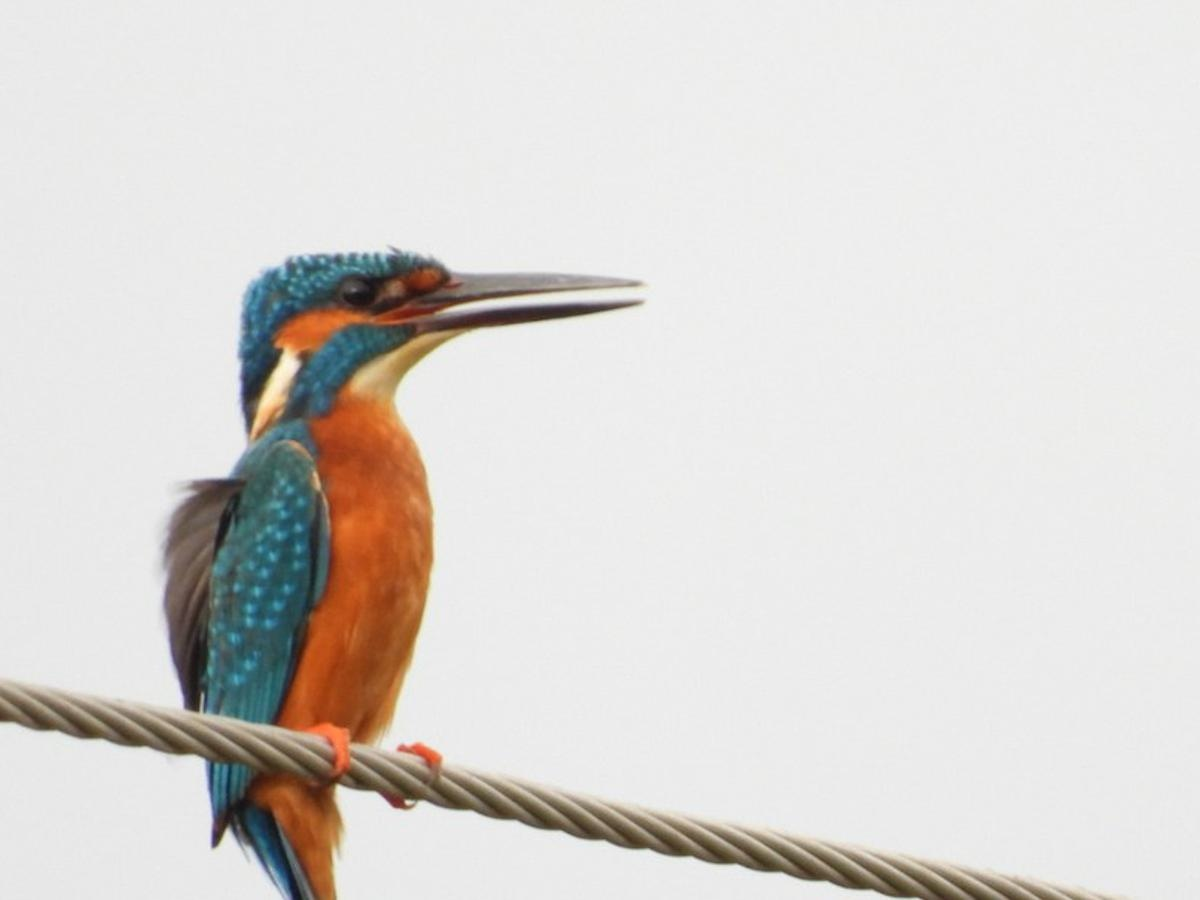kingfisher: (135, 232, 664, 900)
